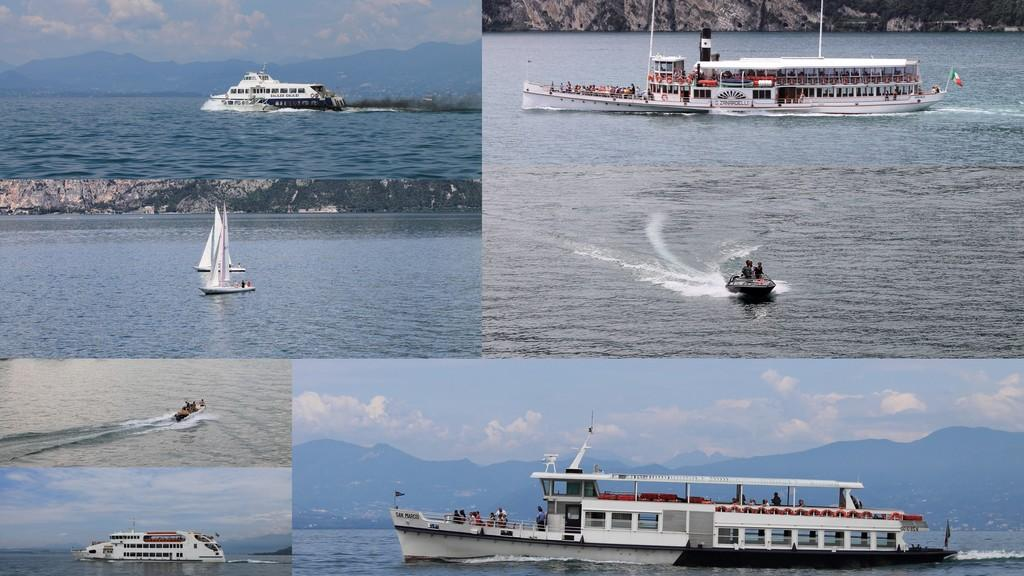PassengerShip: (370, 429, 968, 567), (519, 53, 955, 121), (70, 524, 232, 566), (207, 67, 351, 113)
